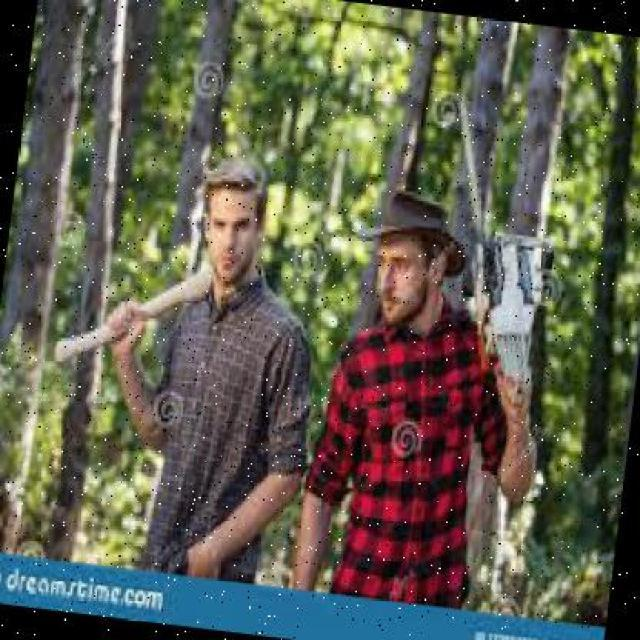poacher: (284, 165, 556, 570), (78, 154, 302, 548)
